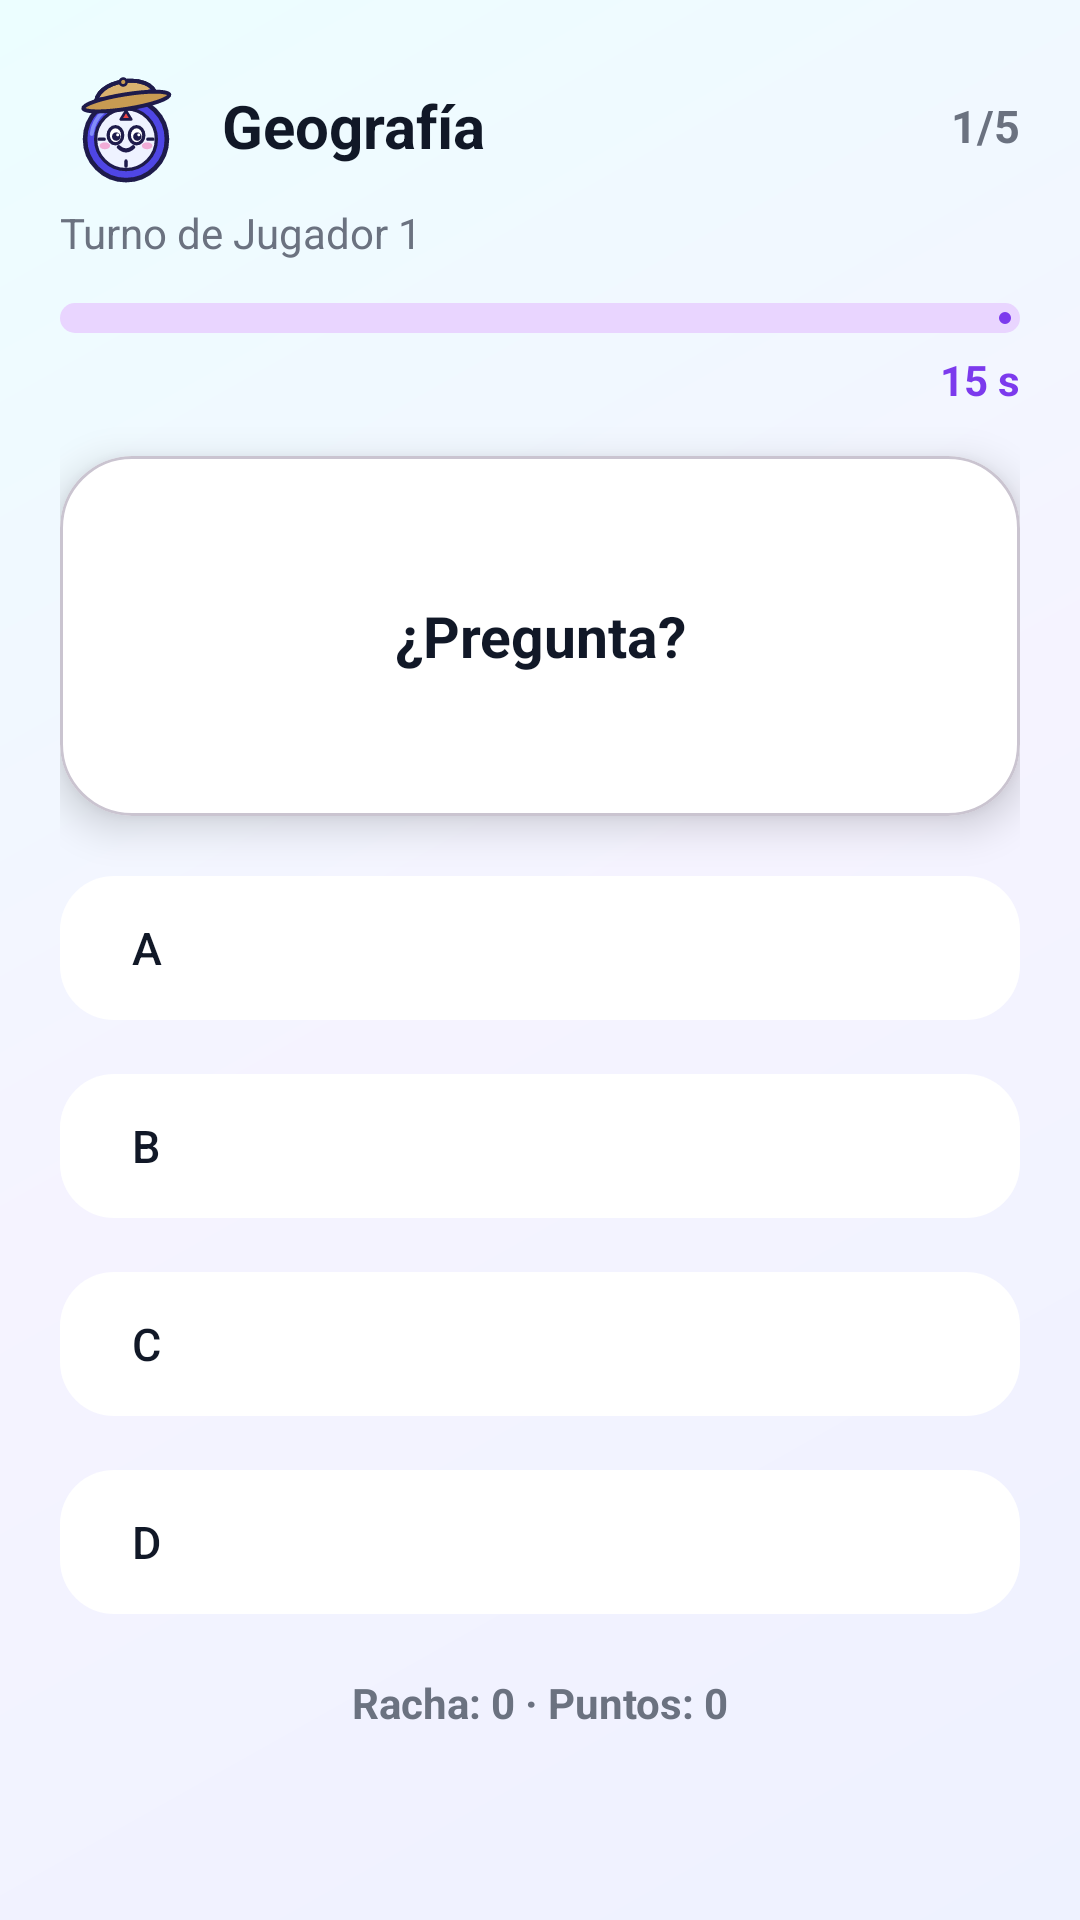

Screen size 1080×1920. Icon name, then its center in pixels as (x,y):
personaje geografia: (126,130)
